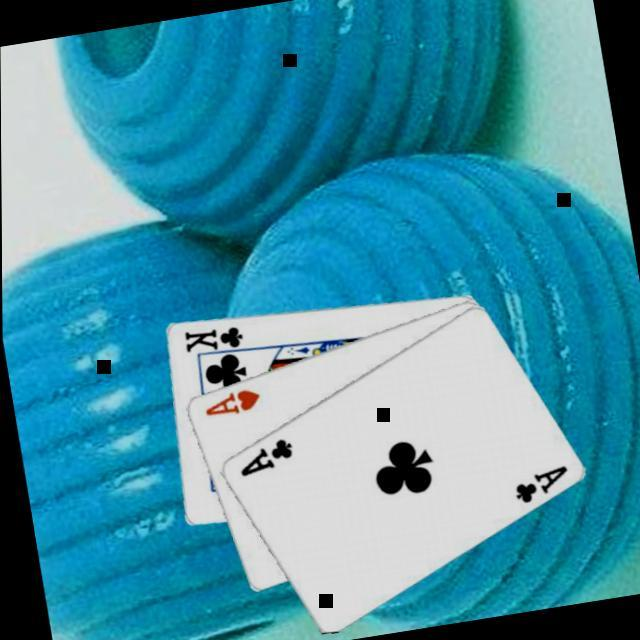AC: (229, 432, 295, 480), (506, 461, 572, 507)
AH: (196, 383, 262, 421)
KC: (178, 318, 250, 362)
